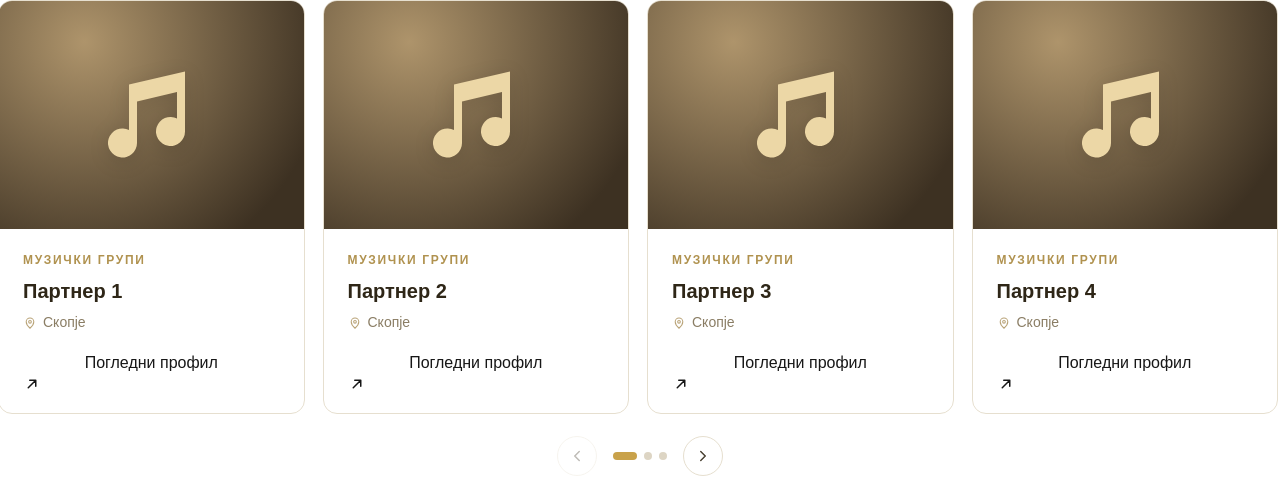
Test: PartnerCarousel › pages through five cards at a time with arrows and dots
Expected: the number of buttons named "Страна" is 3, [613,452,637,460]; [644,452,652,460]; [659,452,667,460]
Expected: the button named "Претходни" is disabled, [557,436,597,476]
Click the button named "Следни": [703, 456] box [683,436,723,476]
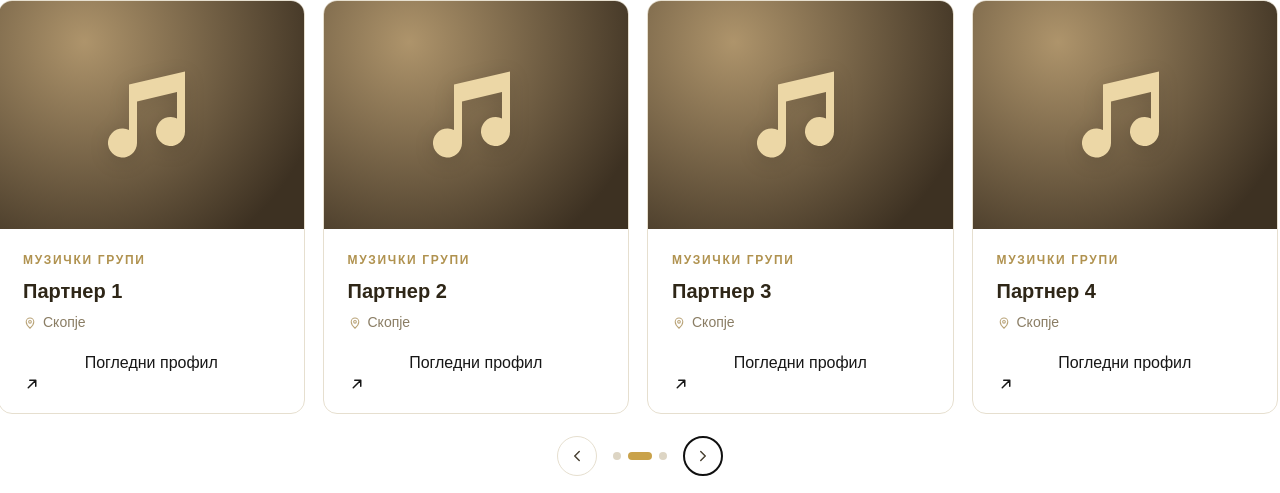
Now the button named "Страна 2" has class "on", box [628,452,652,460]
Click the button named "Страна 3": [663, 456] box [659,452,667,460]
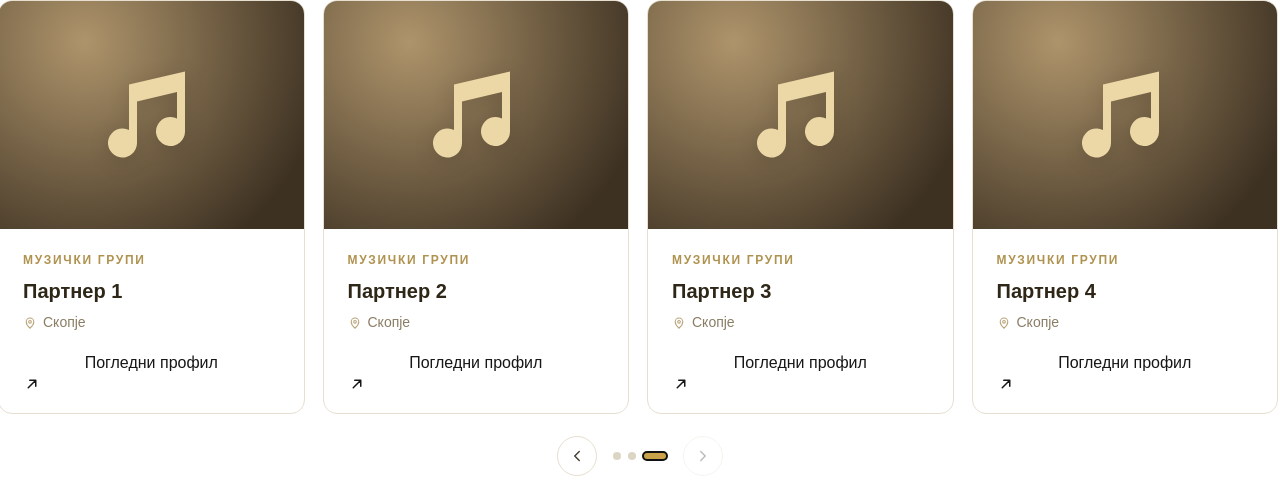
Now the button named "Следни" is disabled, box [683,436,723,476]
